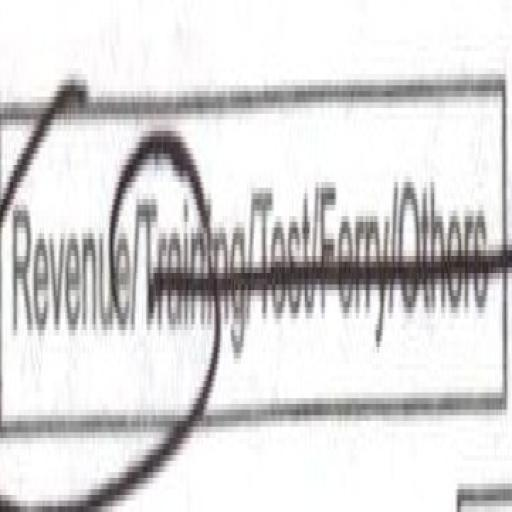check: (5, 79, 138, 512)
